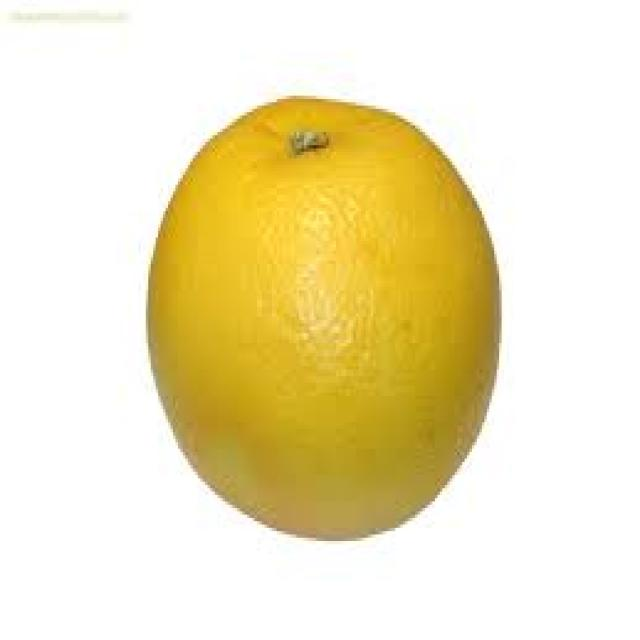greapefurit: (136, 82, 509, 551)
